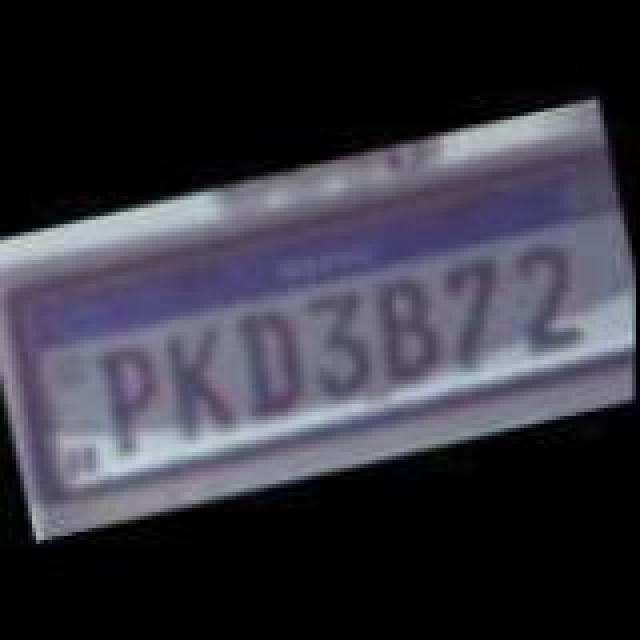2: (500, 228, 604, 356)
3: (298, 282, 382, 410)
7: (432, 246, 520, 370)
B: (362, 262, 446, 386)
D: (230, 296, 314, 420)
K: (152, 312, 244, 448)
P: (88, 342, 172, 466)
